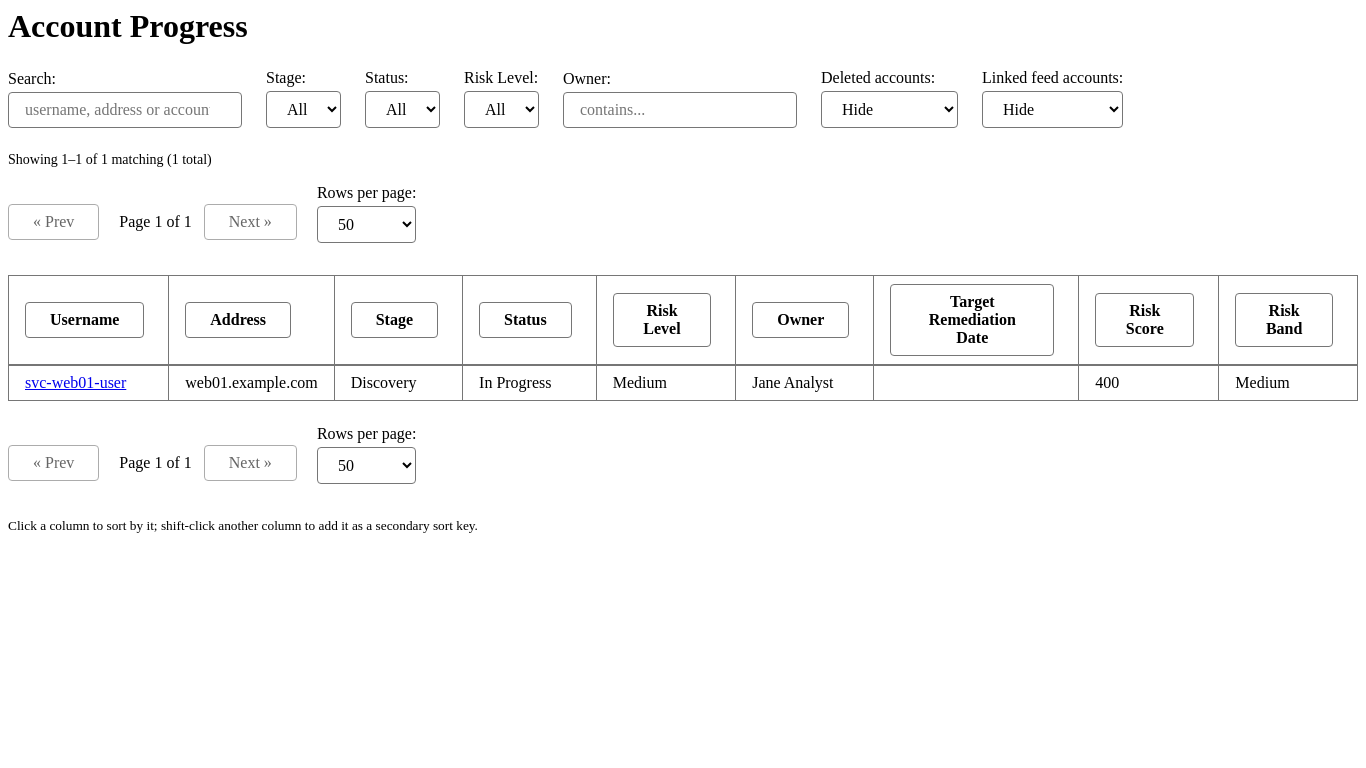
Scenario: AccountProgressList.vue › drops a slow reply to an earlier request that arrives after a newer one
This screenshot has width=1366, height=768.
In the search field labelled "Search:": point(125, 110) [8,92,242,128], type "web"
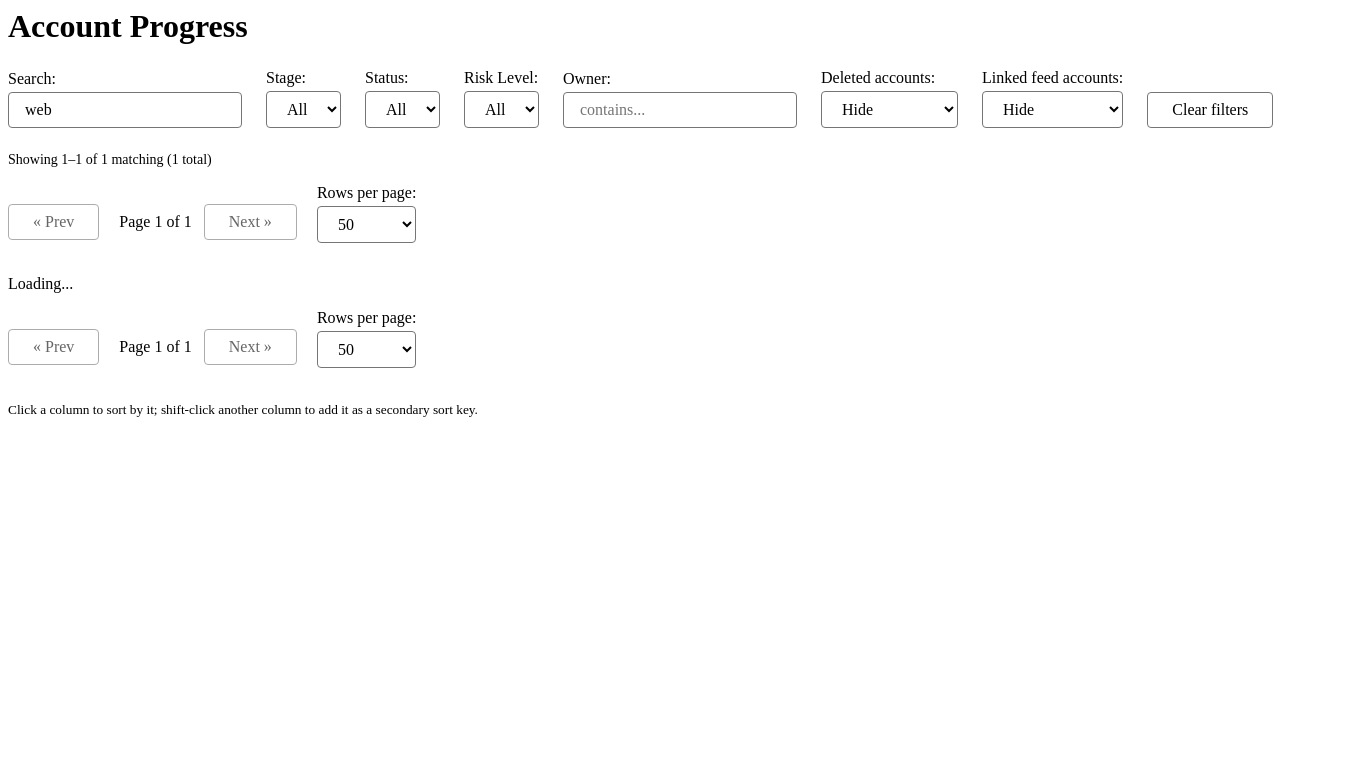
Select "Only deleted" in the dropdown labelled "Deleted accounts:": point(890, 110) [821,91,958,128]
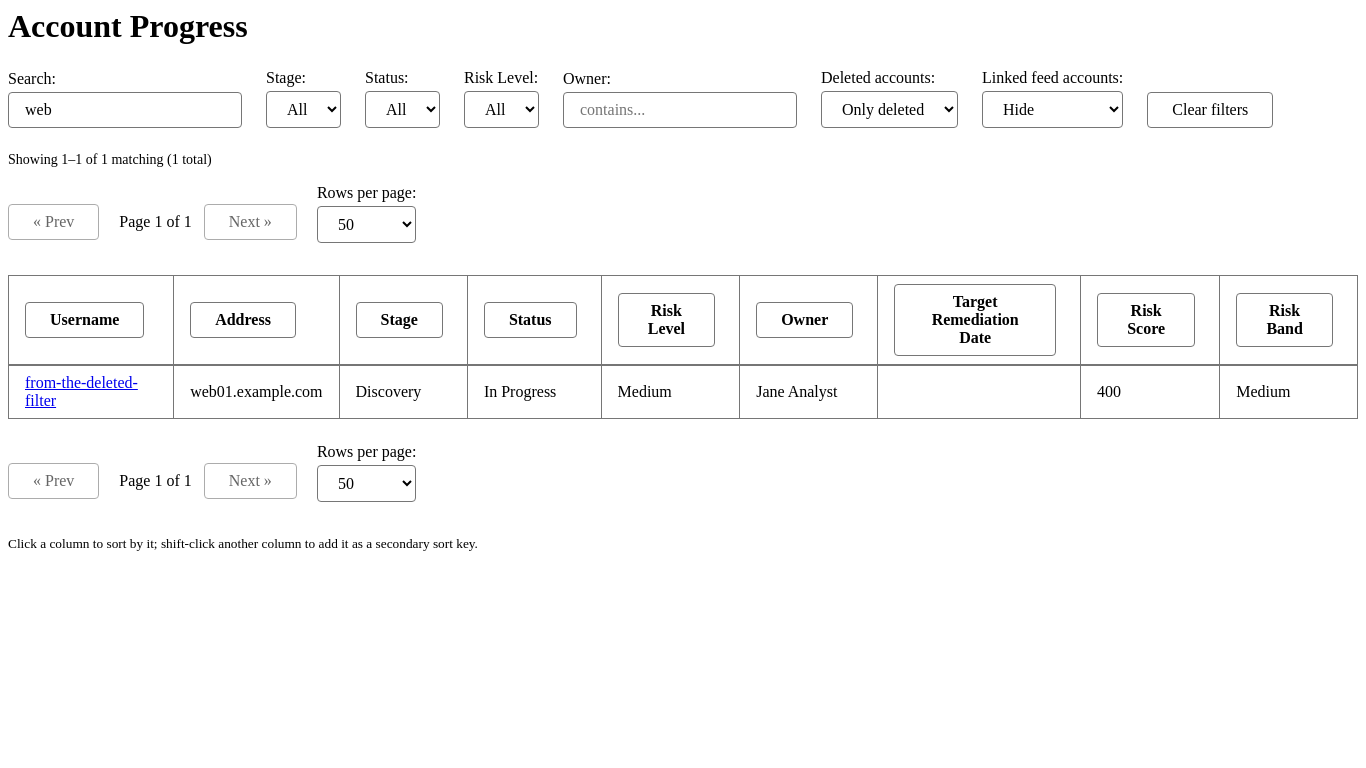
Result: the text "from-the-deleted-filter" is shown at [25,374,138,409]
Result: the text "Loading" is gone
